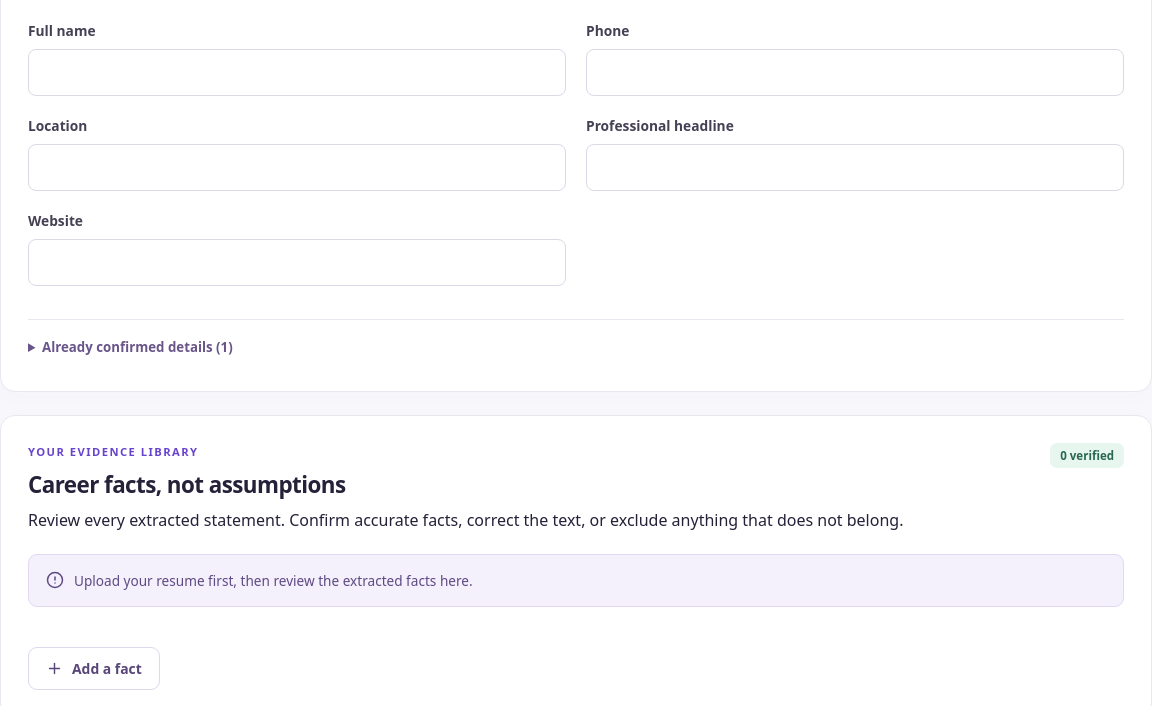
Test: resume-first onboarding and saved voice continuity › prefills confirmed contact details without asking for them again during onboarding
(page scrolled)
Expected: the field labelled "Full name" is shown, [28,49,566,96]
Expected: the field labelled "Contact email" is not shown
Click the heading "Already confirmed details (1)".
click(137, 347)  # box [42,338,233,356]
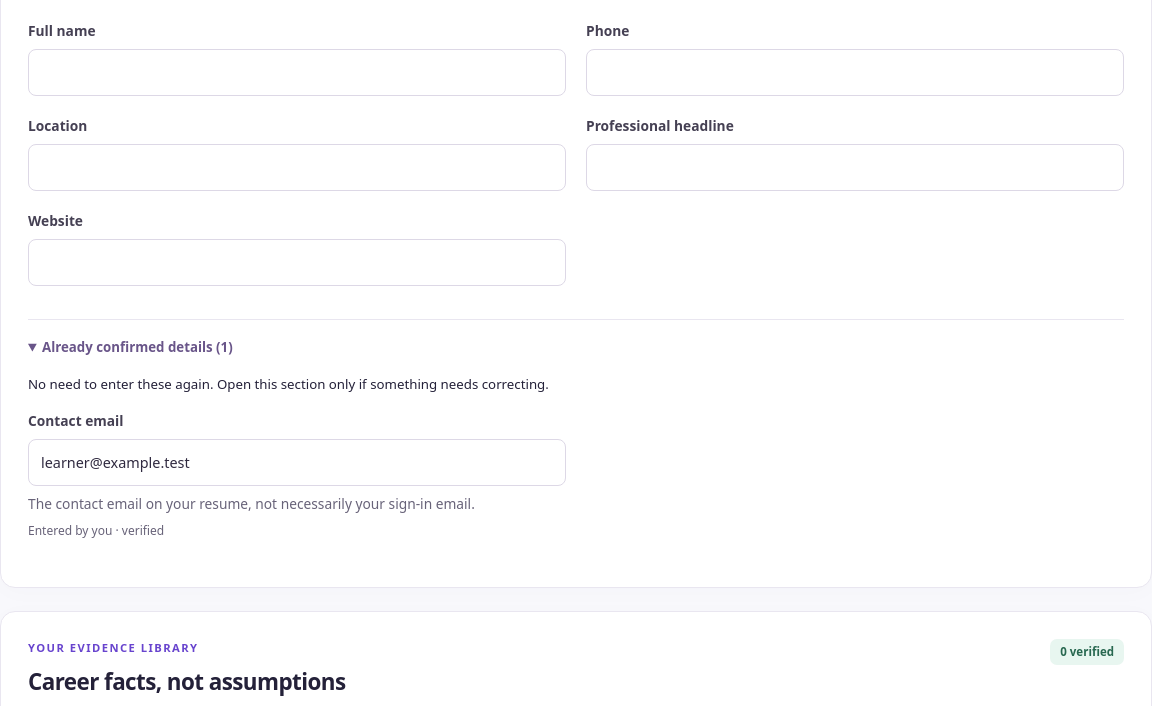
Expected: the field labelled "Contact email" is shown, [28,439,566,486]
